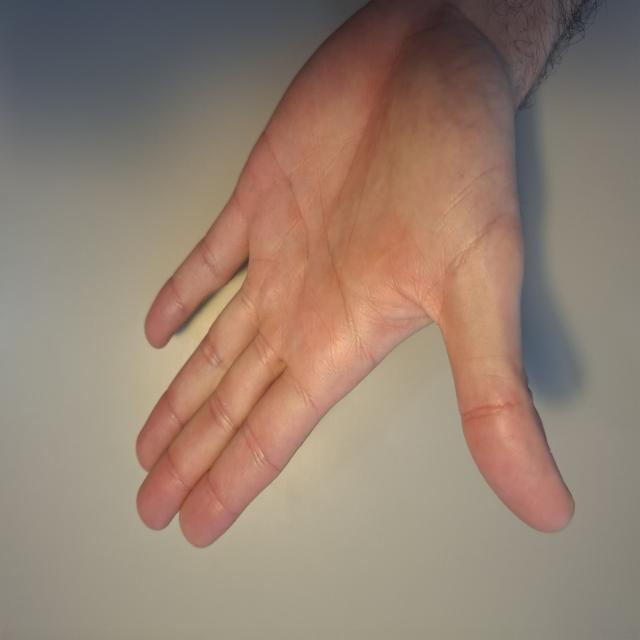glove_off: (132, 0, 578, 554)
